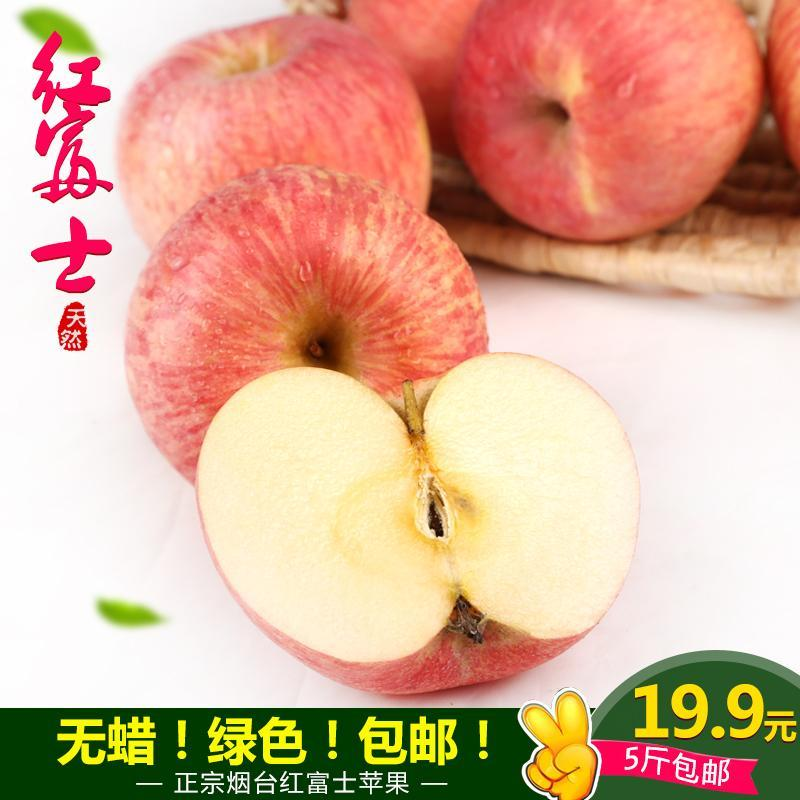apple: (116, 158, 493, 480), (102, 15, 430, 260), (447, 1, 768, 241)
